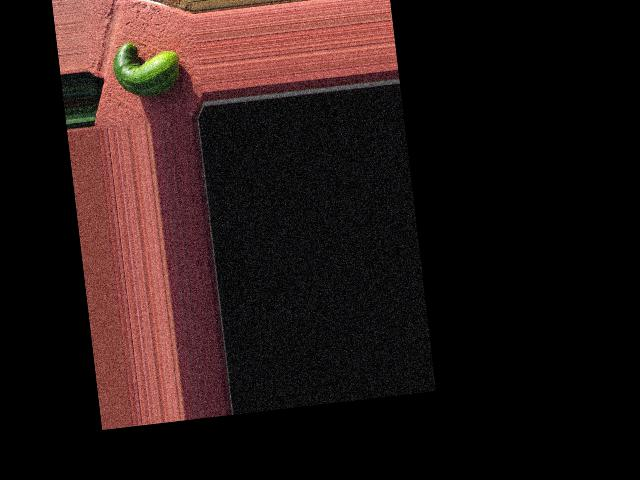cucumber: (110, 36, 182, 99)
